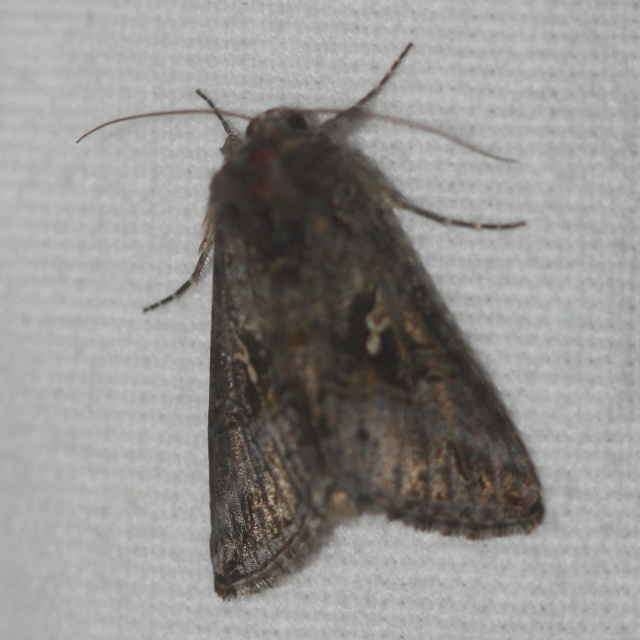Moths and butterflies: (72, 38, 545, 601)
